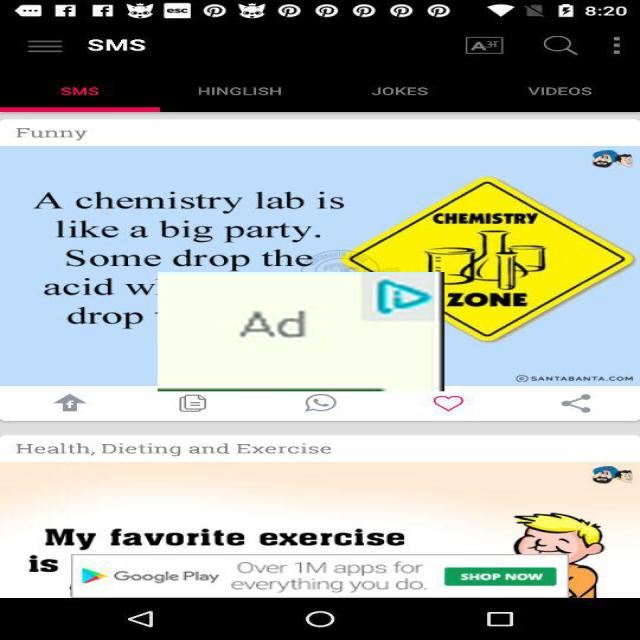sneaking: (158, 272, 444, 391)
